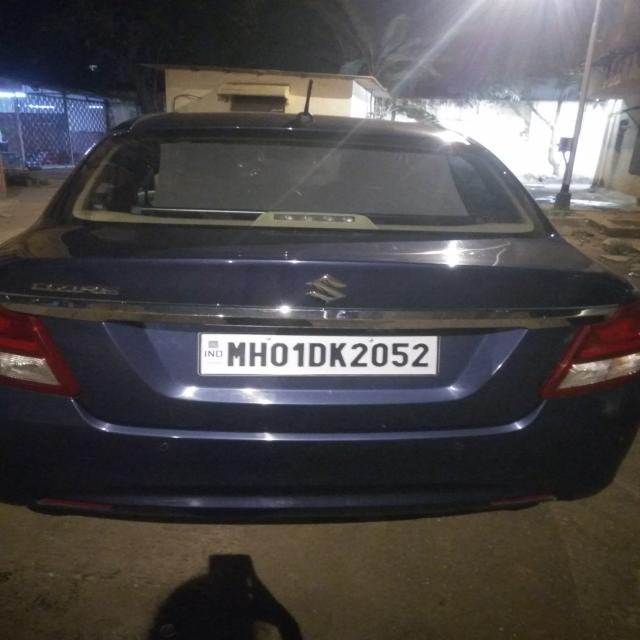Number-Plate: (202, 334, 438, 373)
